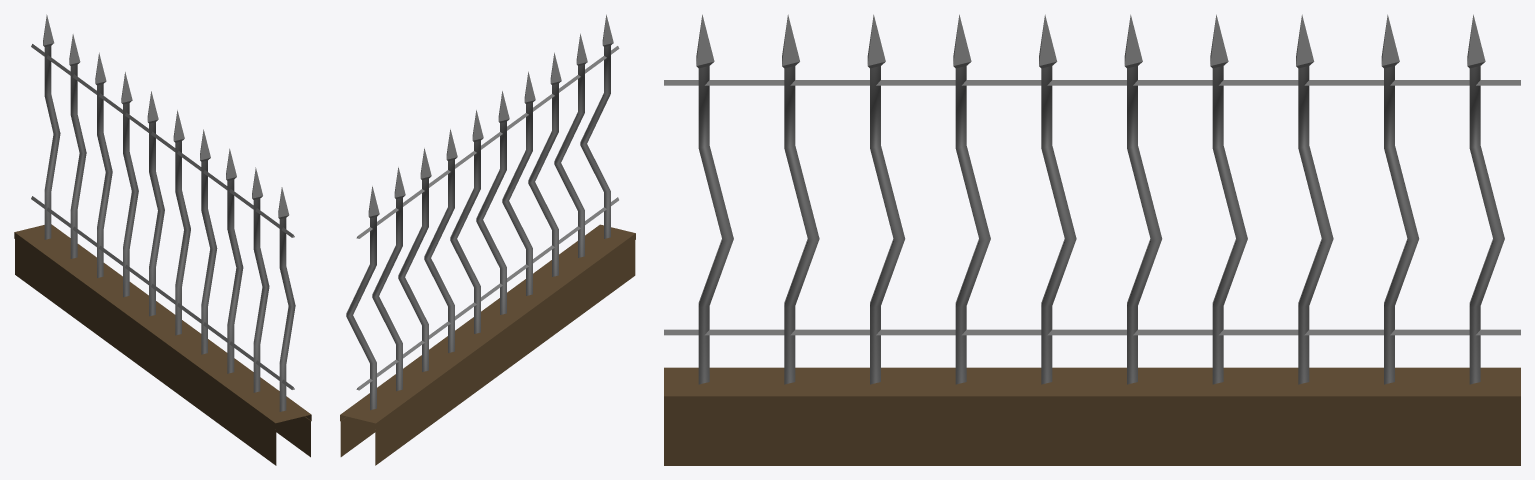
3 renders of one model, left to right at view 1: azimuth 30°, elevation 25°; view 2: azimuth 150°, elevation 25°; view 3: azimuth 270°, elevation 25°, orthographic. The views are drawn at different scales.
Parts seen in each view (by area): view 1: Cylinder; view 2: Cylinder; view 3: Cylinder.
Boxes of the visible parts, x1=… form: Cylinder: x1=14, y1=14, x2=311, y2=465; Cylinder: x1=340, y1=14, x2=635, y2=465; Cylinder: x1=664, y1=14, x2=1520, y2=465.
Size of the model in its own units: 49.63 by 334 by 592.
